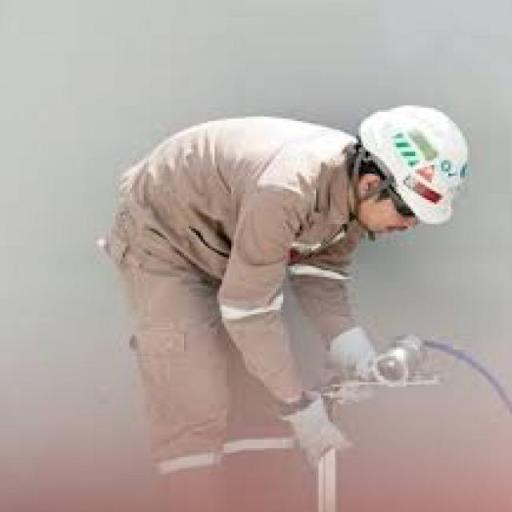helmet: (349, 99, 481, 228)
